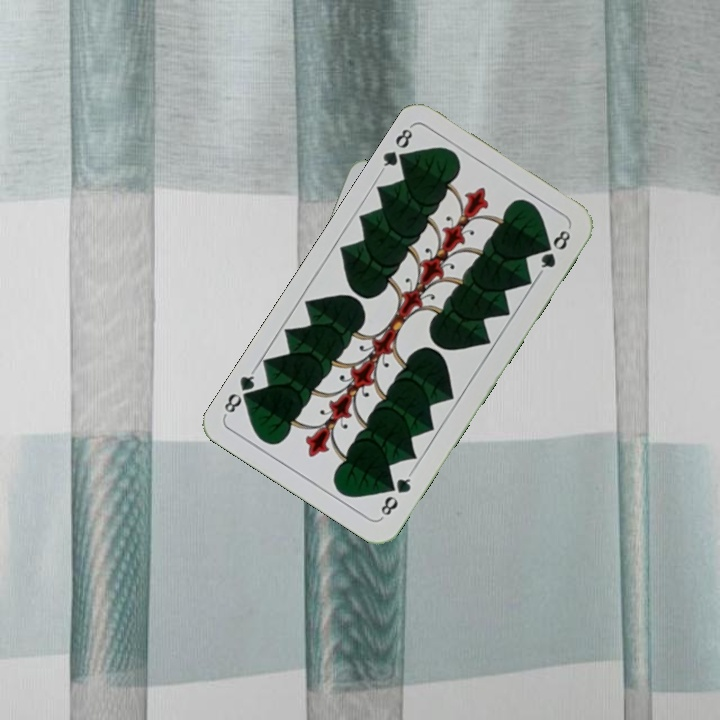G8: (376, 122, 416, 175), (376, 468, 415, 521)
